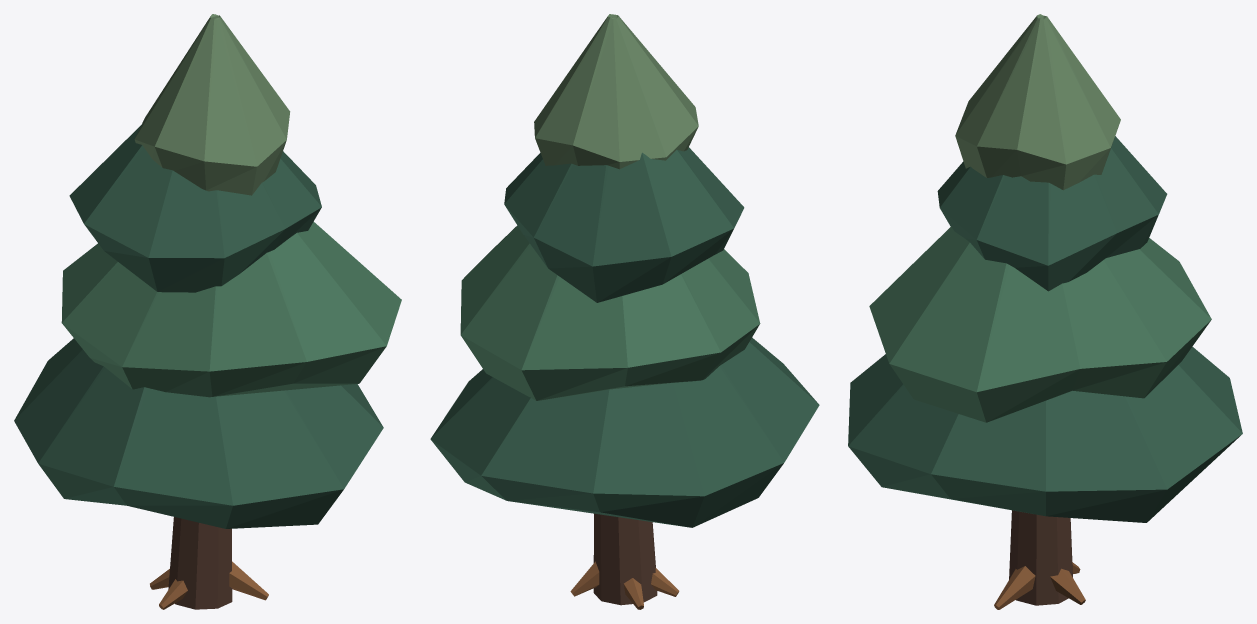
File: tree.glb
3 views of the same model, side by side, from view 1: azimuth 30°, elevation 25°; view 2: azimuth 150°, elevation 25°; view 3: azimuth 270°, elevation 25° (orthographic).
Parts seen in each view (by area): view 1: body; view 2: body; view 3: body.
Part boxes in pixels (bbox=[...]): body: bbox=[14, 14, 401, 609]; body: bbox=[430, 14, 819, 609]; body: bbox=[848, 14, 1242, 609].
Size of the model in its own units: 1.95 by 3.27 by 2.01.
